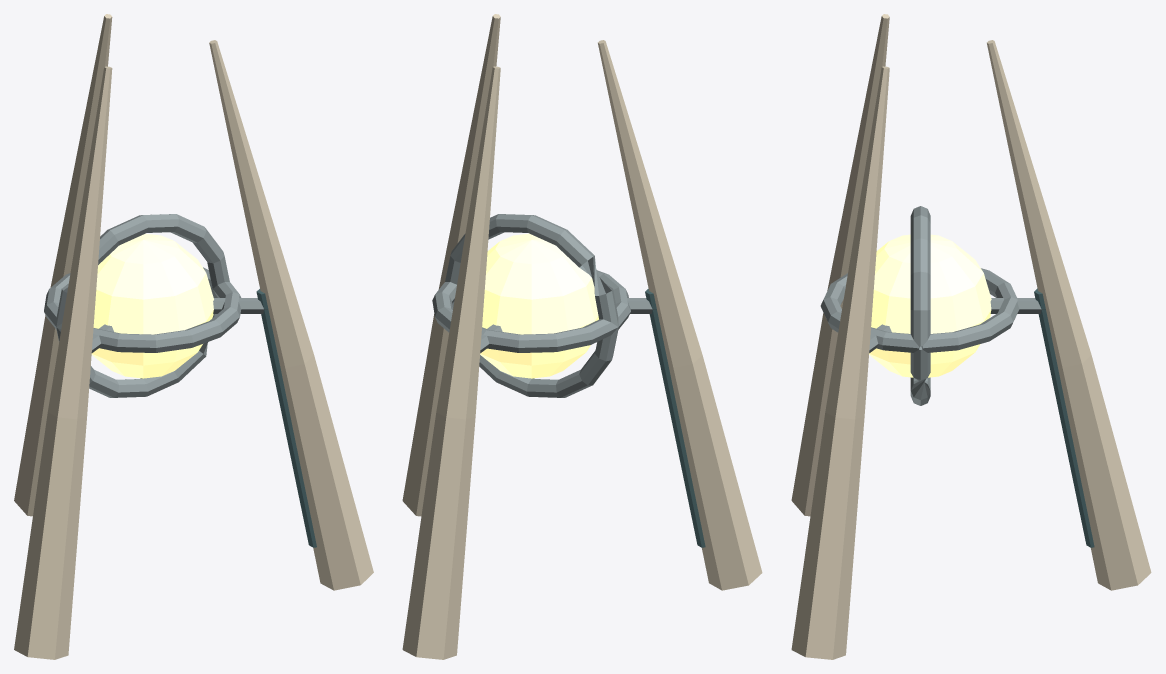
The model's file is marker_checkpoint.glb.
3 renders of one model, left to right at view 1: azimuth 30°, elevation 25°; view 2: azimuth 150°, elevation 25°; view 3: azimuth 270°, elevation 25°, orthographic.
Visible parts, largest first — view 1: marker_checkpoint_bone, marker_checkpoint_amber, marker_checkpoint_steel, marker_checkpoint_iron; view 2: marker_checkpoint_bone, marker_checkpoint_amber, marker_checkpoint_steel, marker_checkpoint_iron; view 3: marker_checkpoint_bone, marker_checkpoint_amber, marker_checkpoint_steel, marker_checkpoint_iron.
Part boxes in pixels (<box>): marker_checkpoint_bone: <box>14,14,373,659</box>; marker_checkpoint_amber: <box>91,233,213,378</box>; marker_checkpoint_steel: <box>44,214,267,397</box>; marker_checkpoint_iron: <box>256,289,316,547</box>; marker_checkpoint_bone: <box>402,14,762,659</box>; marker_checkpoint_amber: <box>480,233,598,378</box>; marker_checkpoint_steel: <box>432,214,656,397</box>; marker_checkpoint_iron: <box>645,288,705,547</box>; marker_checkpoint_bone: <box>791,14,1151,659</box>; marker_checkpoint_amber: <box>869,234,991,377</box>; marker_checkpoint_steel: <box>820,206,1045,405</box>; marker_checkpoint_iron: <box>1034,288,1094,547</box>.
Size of the model in its own units: 0.6862 by 1.03 by 0.6177.
